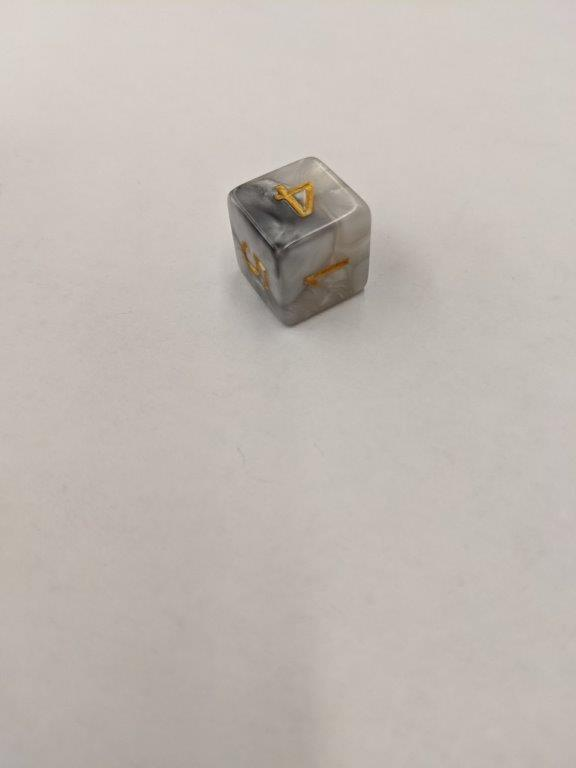d6-4: (226, 157, 373, 330)
